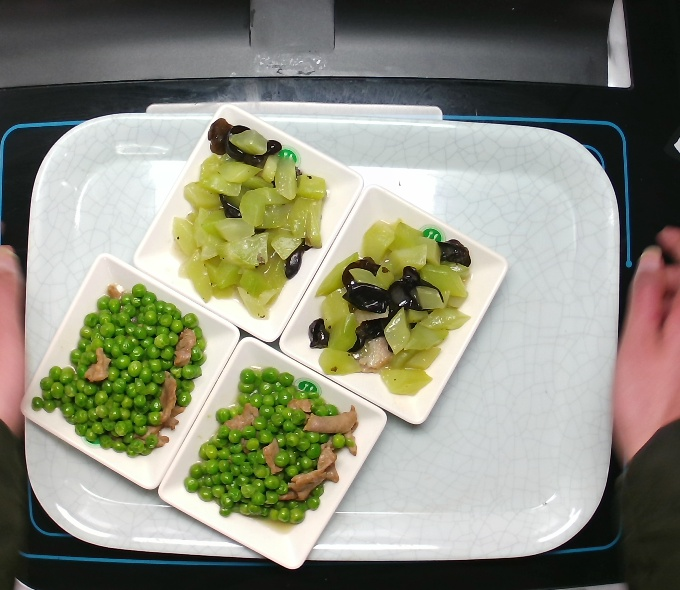wcq-CanDouRouSi: (166, 362, 369, 541), (35, 278, 208, 475)
wcq-WoSunKuai: (294, 215, 474, 405), (174, 112, 336, 321)
